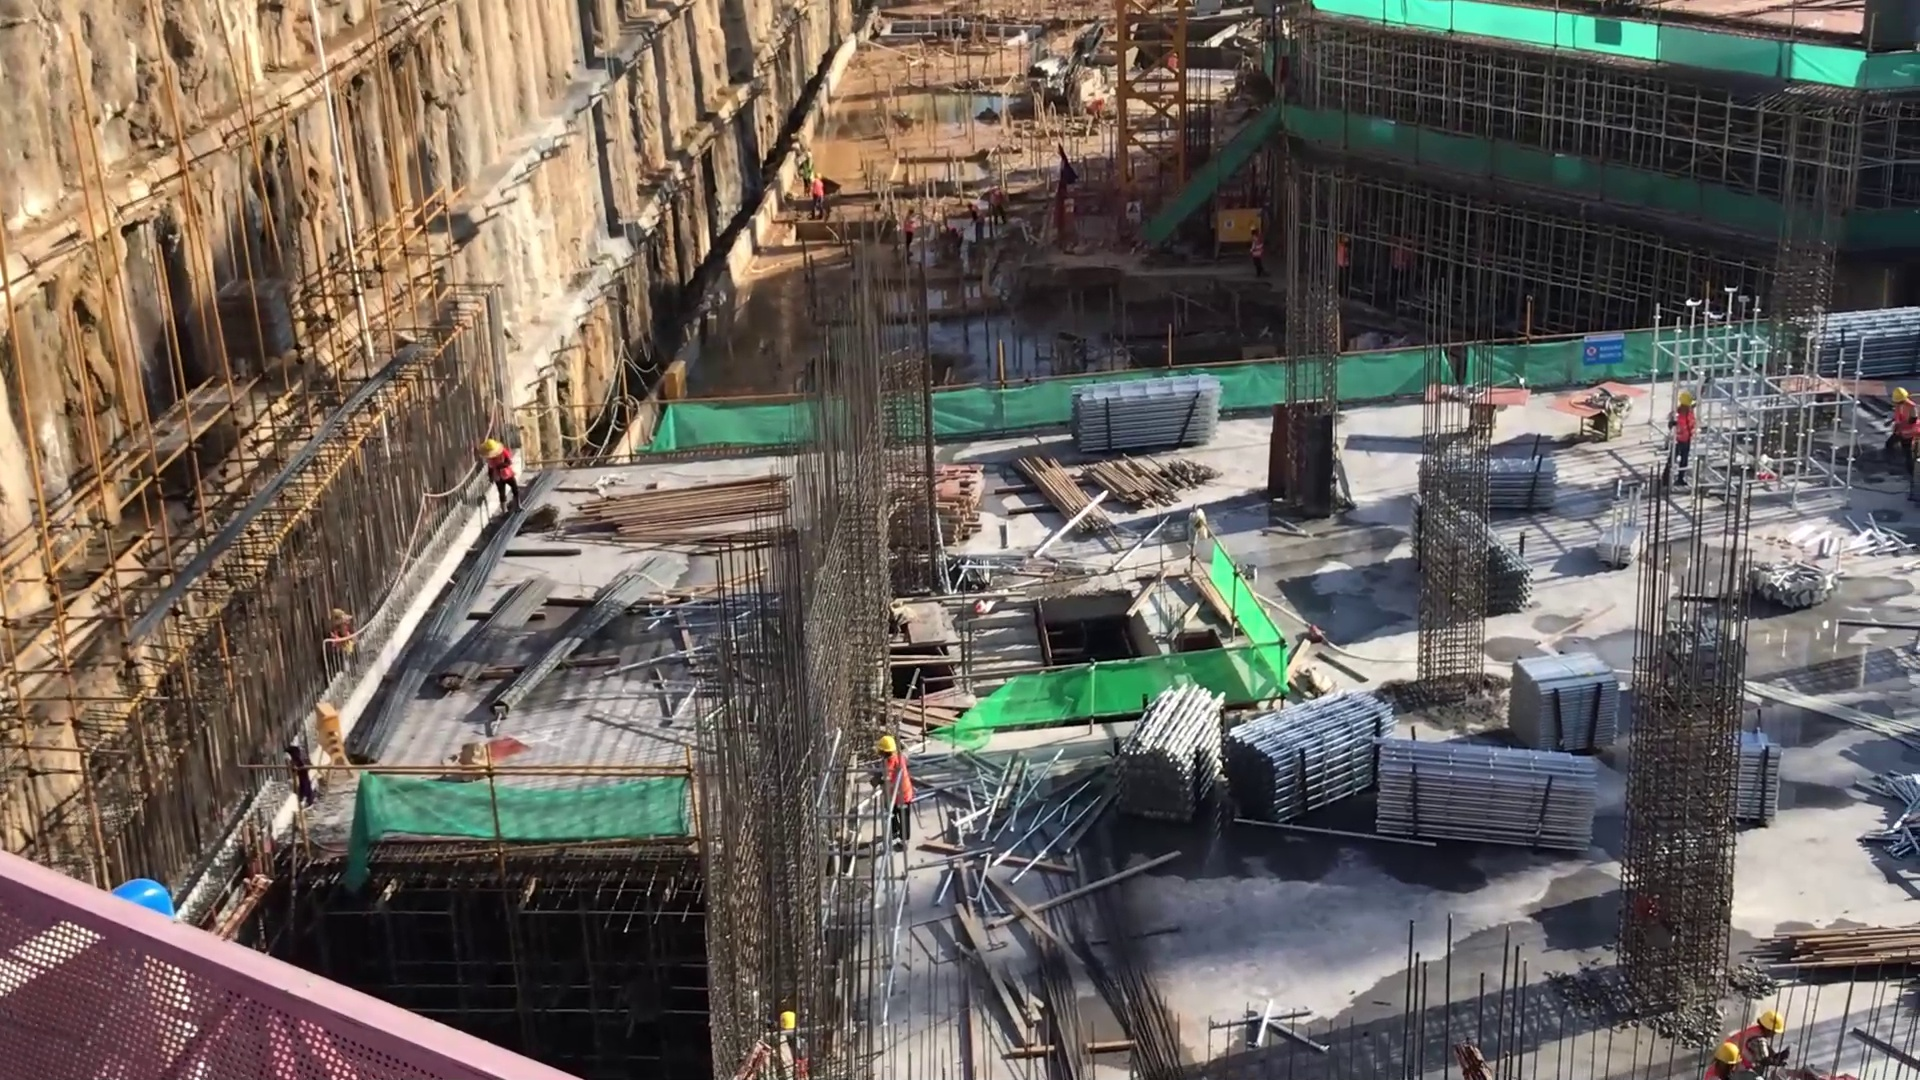cutter: (1542, 376, 1651, 447), (1429, 379, 1533, 440)
ebox: (1212, 195, 1279, 269)
helmet: (1710, 1040, 1745, 1069), (1755, 1009, 1790, 1037), (867, 733, 900, 758), (1887, 384, 1911, 409), (1674, 395, 1691, 415)
person: (867, 731, 923, 851), (1726, 1009, 1794, 1076), (476, 431, 527, 516), (1882, 375, 1920, 472), (1670, 394, 1702, 465), (1693, 1039, 1748, 1080)
scaffold: (1369, 727, 1601, 859), (1221, 688, 1403, 830), (1111, 681, 1233, 832), (1068, 367, 1226, 462), (1506, 642, 1625, 750), (1801, 294, 1920, 387), (1483, 446, 1560, 514)
vest: (874, 759, 917, 812), (484, 450, 513, 490), (1889, 403, 1920, 440), (1728, 1025, 1757, 1064), (1673, 414, 1699, 447)
